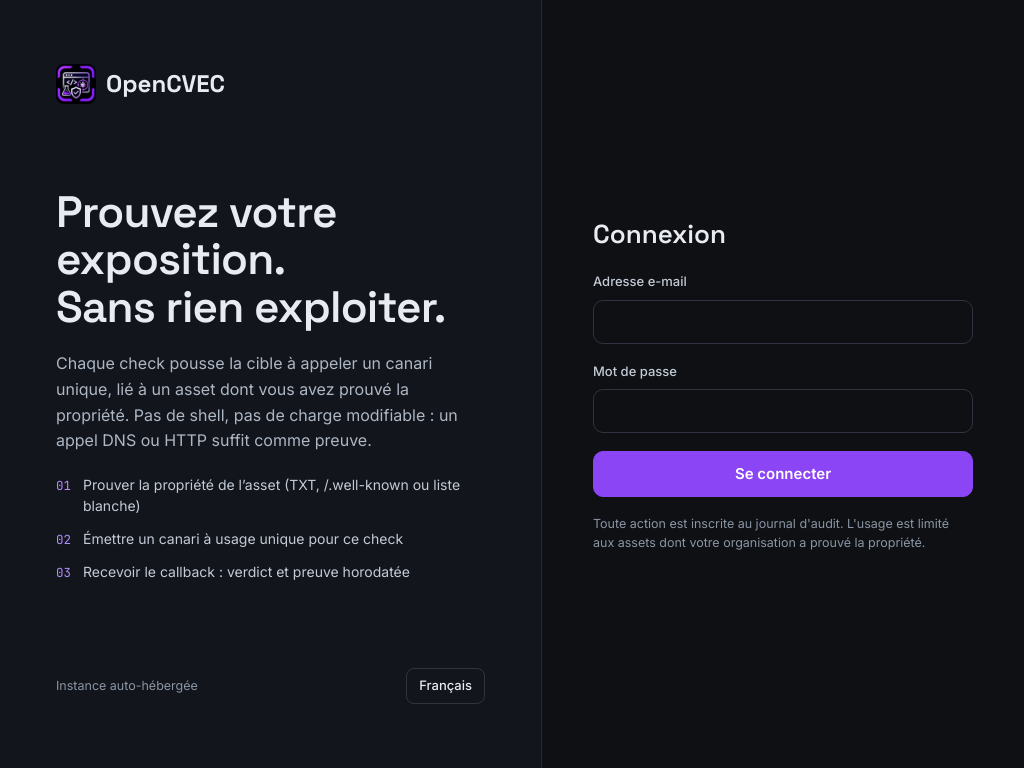
it: Login › affiche l’erreur de connexion
Type "a@b.fr" into the field labelled "Adresse e-mail" at (783, 322), box x1=593 y1=300 x2=973 y2=344
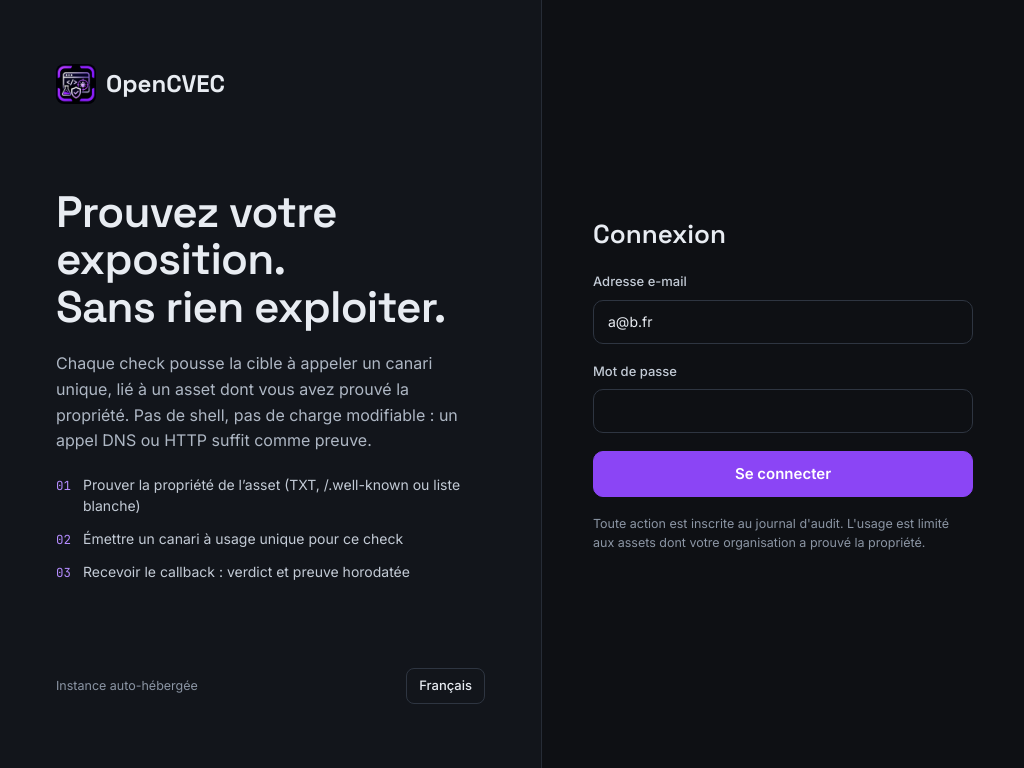
Type "x" into the password field labelled "Mot de passe" at (783, 411), box x1=593 y1=389 x2=973 y2=433
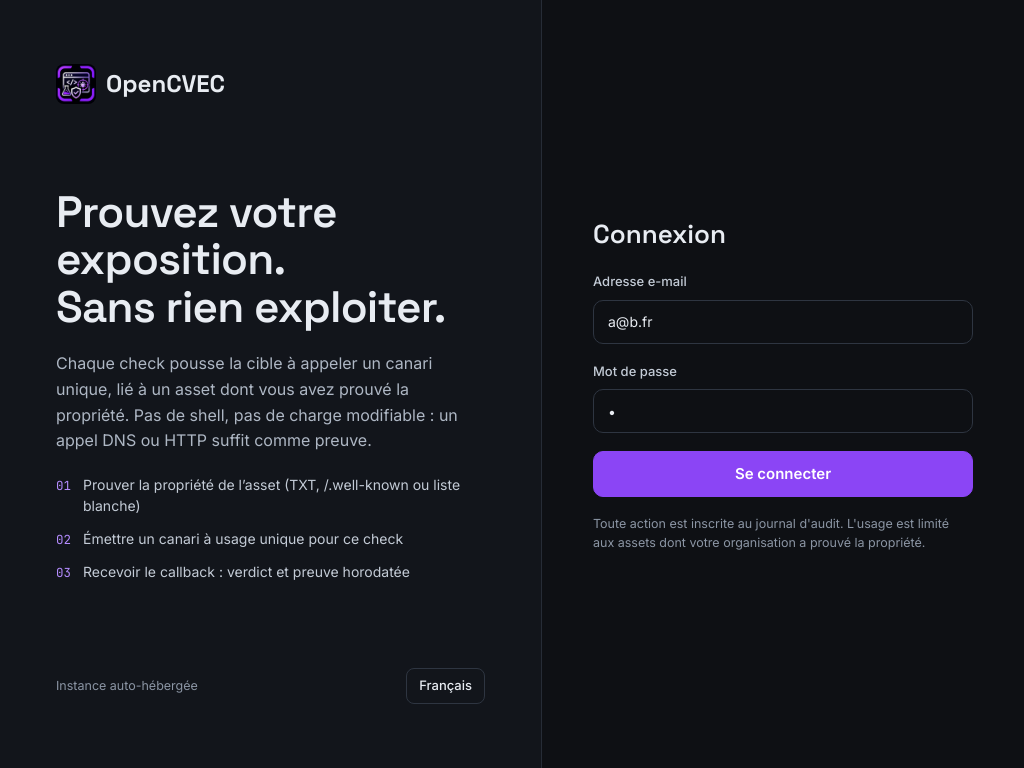
Click the button "Se connecter" at (783, 474), box x1=593 y1=451 x2=973 y2=497
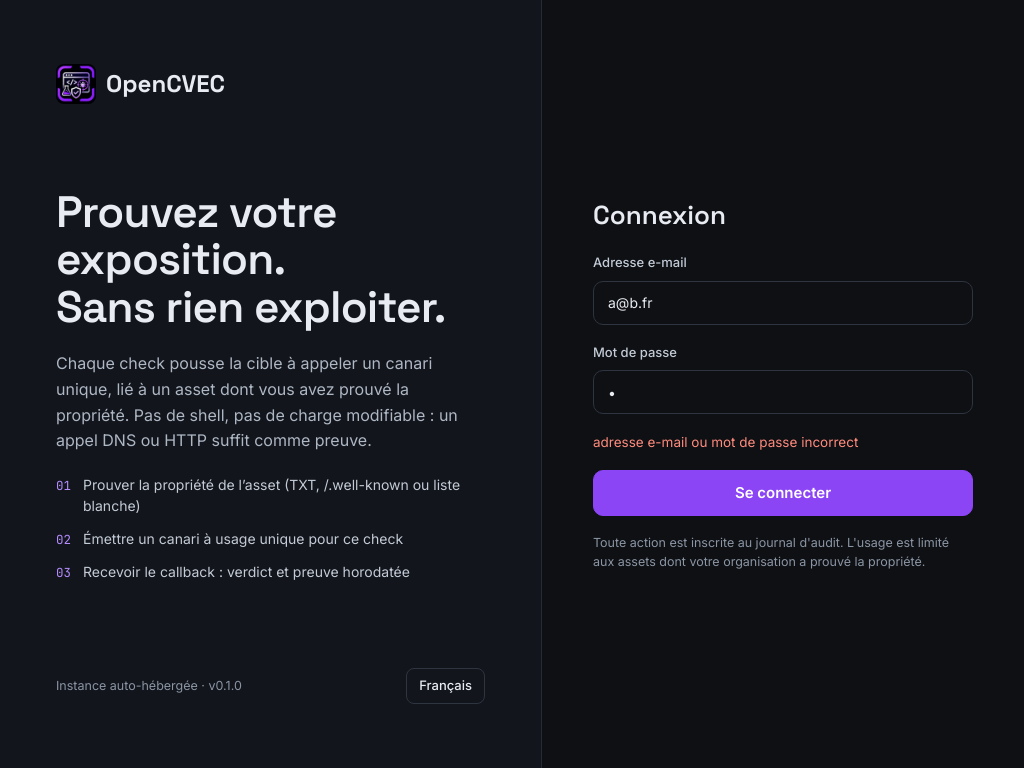
expect the message shows "incorrect": met, box x1=593 y1=434 x2=858 y2=450
